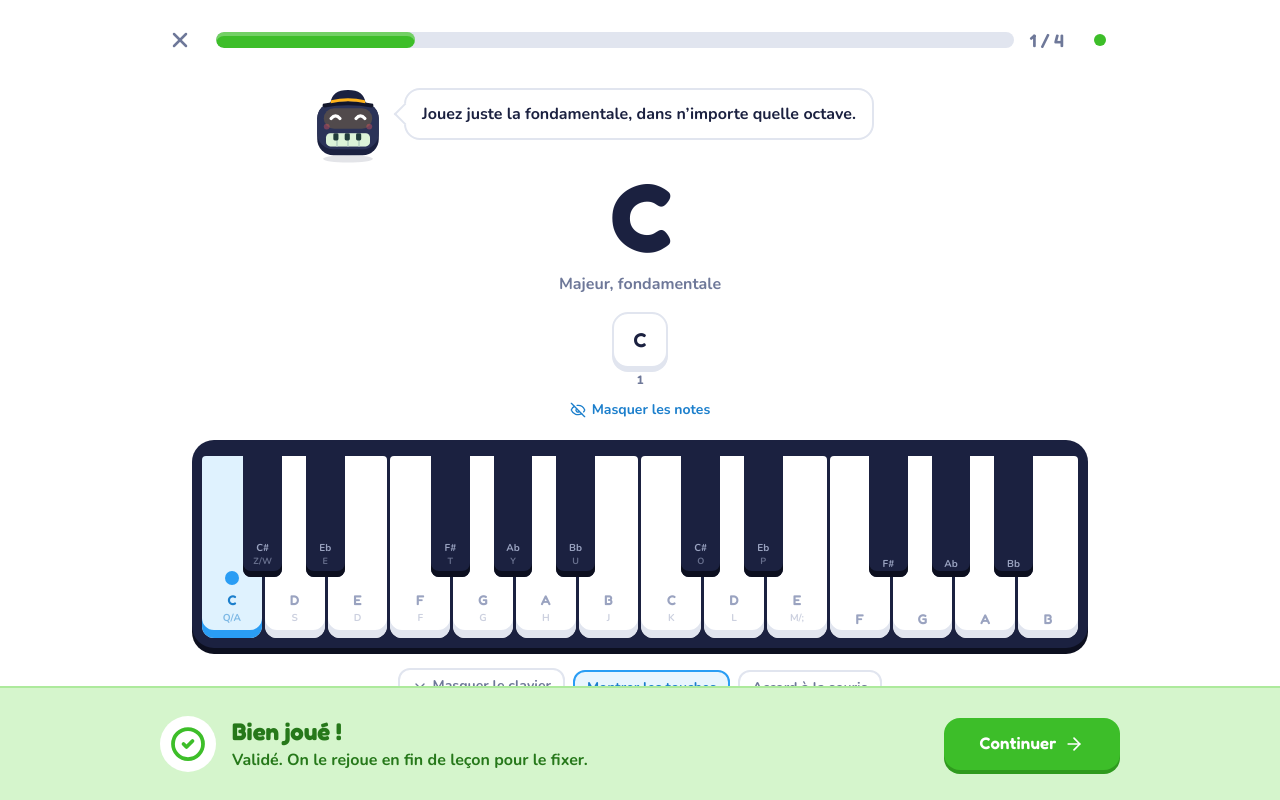
Test case: PlayScreen — leçon du jour › a wrong note is recorded, the chord comes back once, and a held chord never scores the next card
Later steps or results of the test are not shown.
Check: the text "Validé. On le rejoue en fin de leçon pour le fixer." is shown, box left=232, top=748, right=588, bottom=772
Click the button "Continuer" at (1032, 744), box left=944, top=718, right=1120, bottom=770
Wait 1680 ms
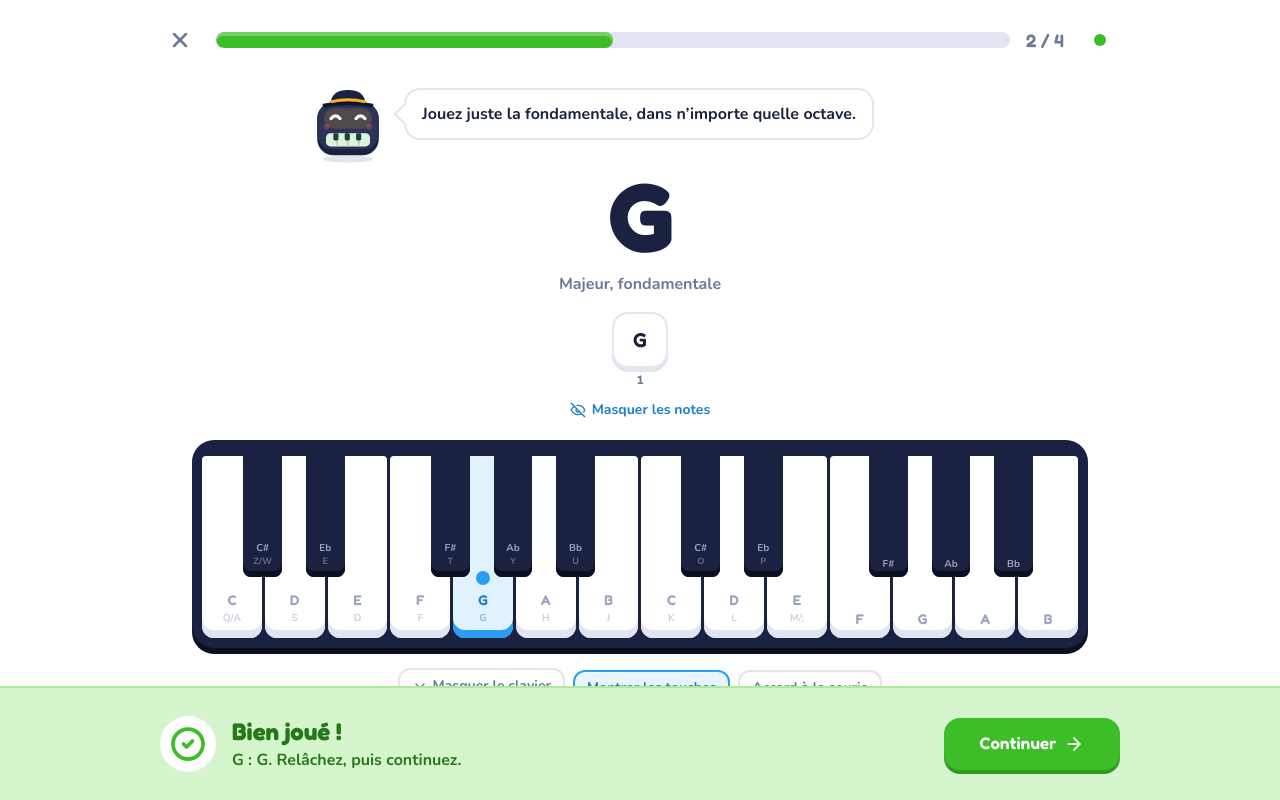
Check: the text "2 / 4" is shown, box left=1026, top=26, right=1064, bottom=54
